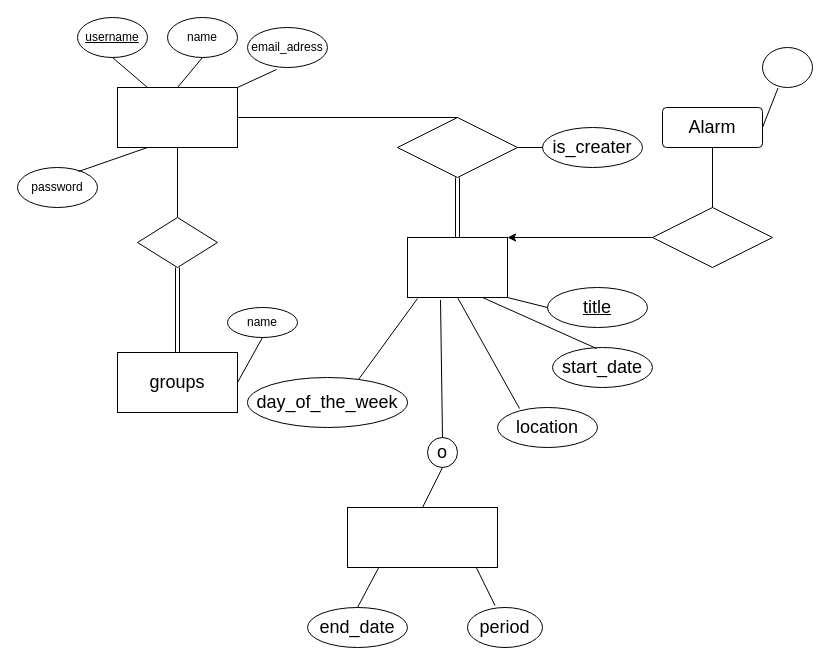
This 830x665 diagram has some shape labels left out. Here are the shapes that lost their labels. From the top down, the centre of each, then its label:
At point 787,67: "time".
At point 177,117: "users".
At point 457,147: "associate".
At point 177,242: "participate".
At point 712,237: "be triggered".
At point 457,267: "events".
At point 422,537: "recurring_event".
